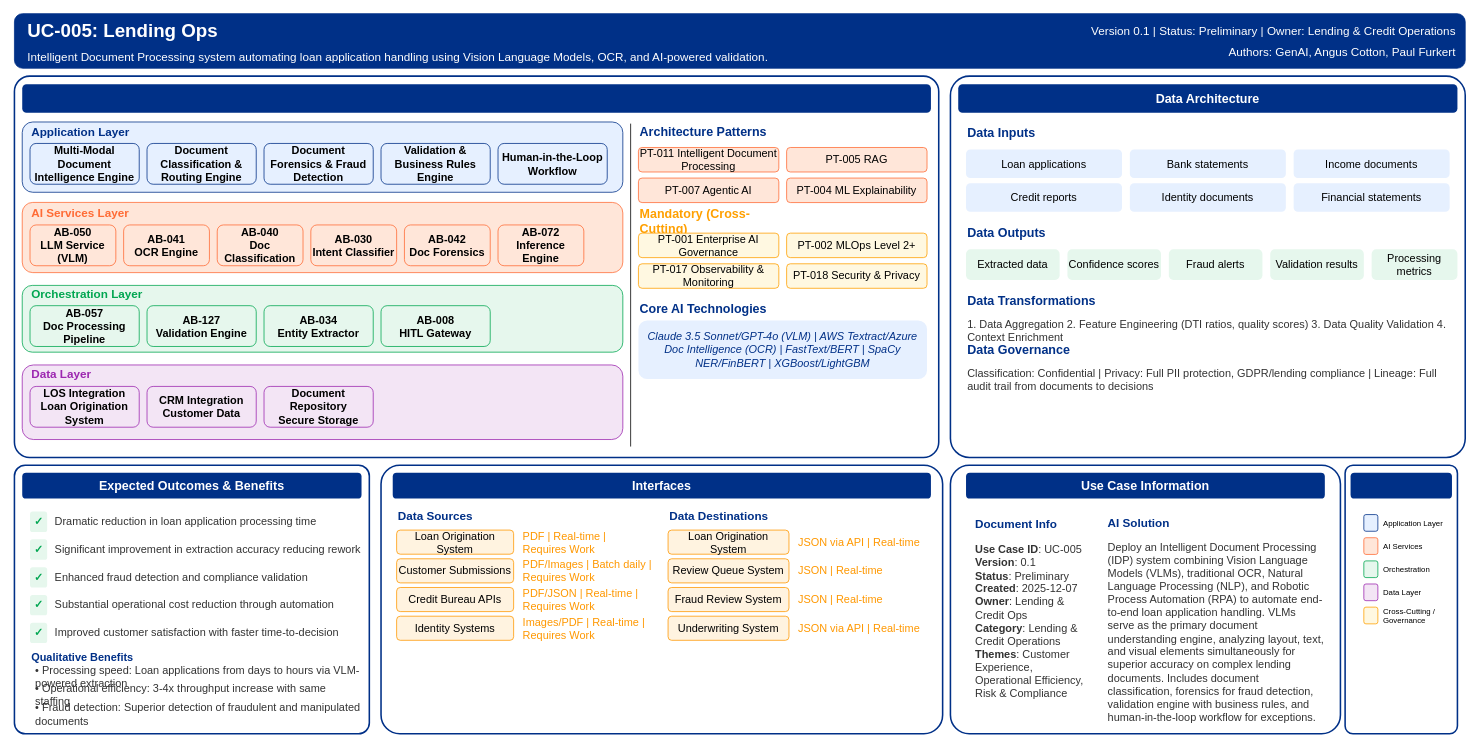
This 1480x748 diagram has some shape labels left out. The centre of each missing label's shape, as x and y in pixels:
"Legend" goes at point (1401, 485).
"Solution" goes at point (476, 98).
